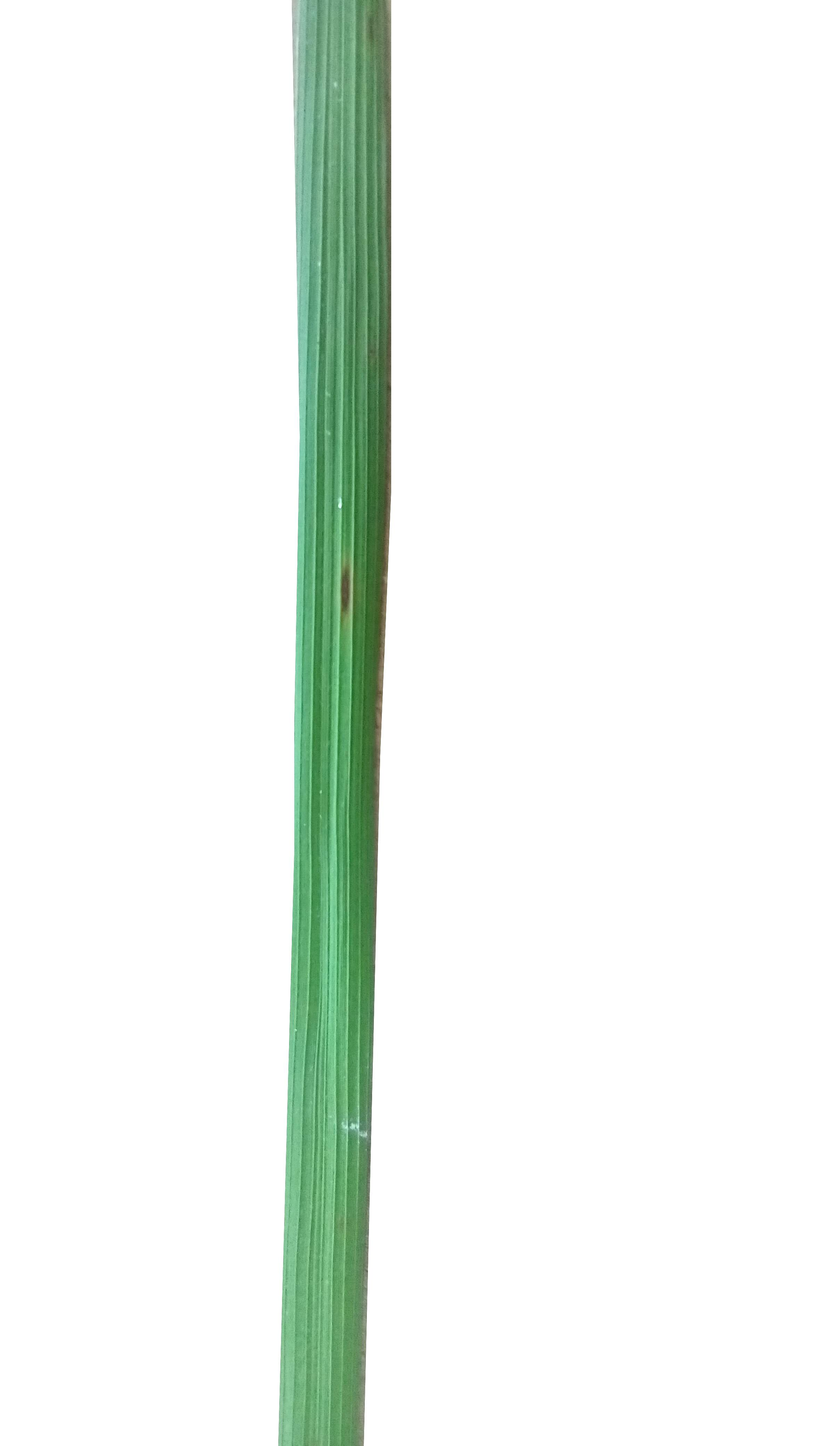Brown spot: (323, 542, 375, 626)
